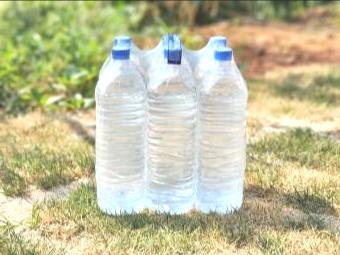bottle: (89, 46, 145, 214), (145, 47, 198, 213), (198, 51, 248, 217)
